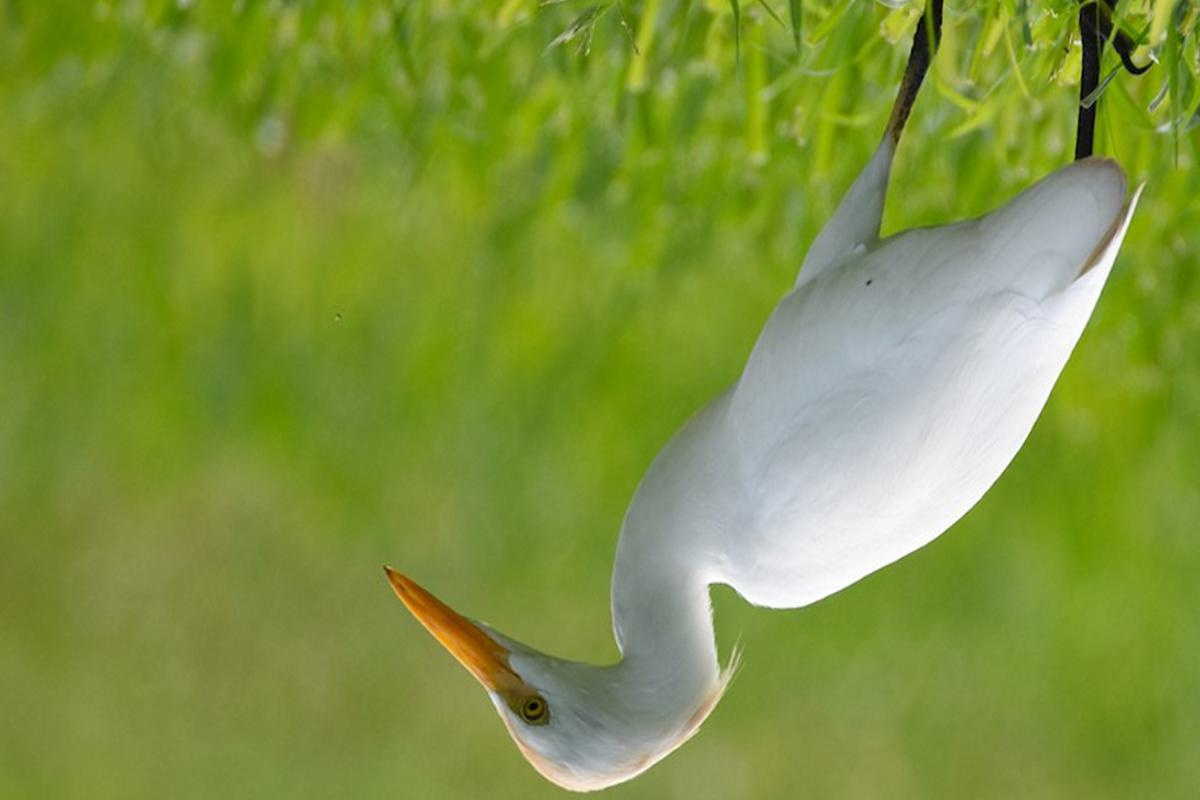egret: (374, 15, 1145, 798)
